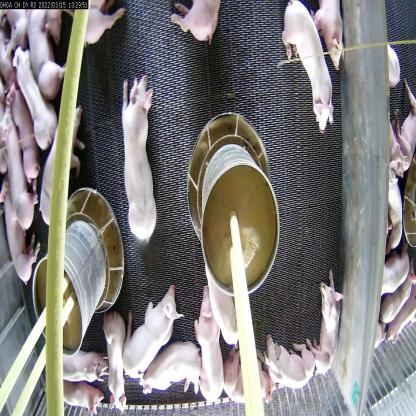Pig: (32, 95, 94, 233), (117, 70, 164, 250), (278, 1, 333, 132), (15, 43, 63, 162), (118, 281, 180, 373), (188, 273, 230, 403), (305, 264, 348, 387), (0, 98, 36, 222), (257, 322, 317, 396), (204, 261, 252, 353), (140, 333, 204, 402), (26, 2, 68, 100), (223, 330, 271, 411), (99, 309, 131, 416), (54, 348, 109, 390)
